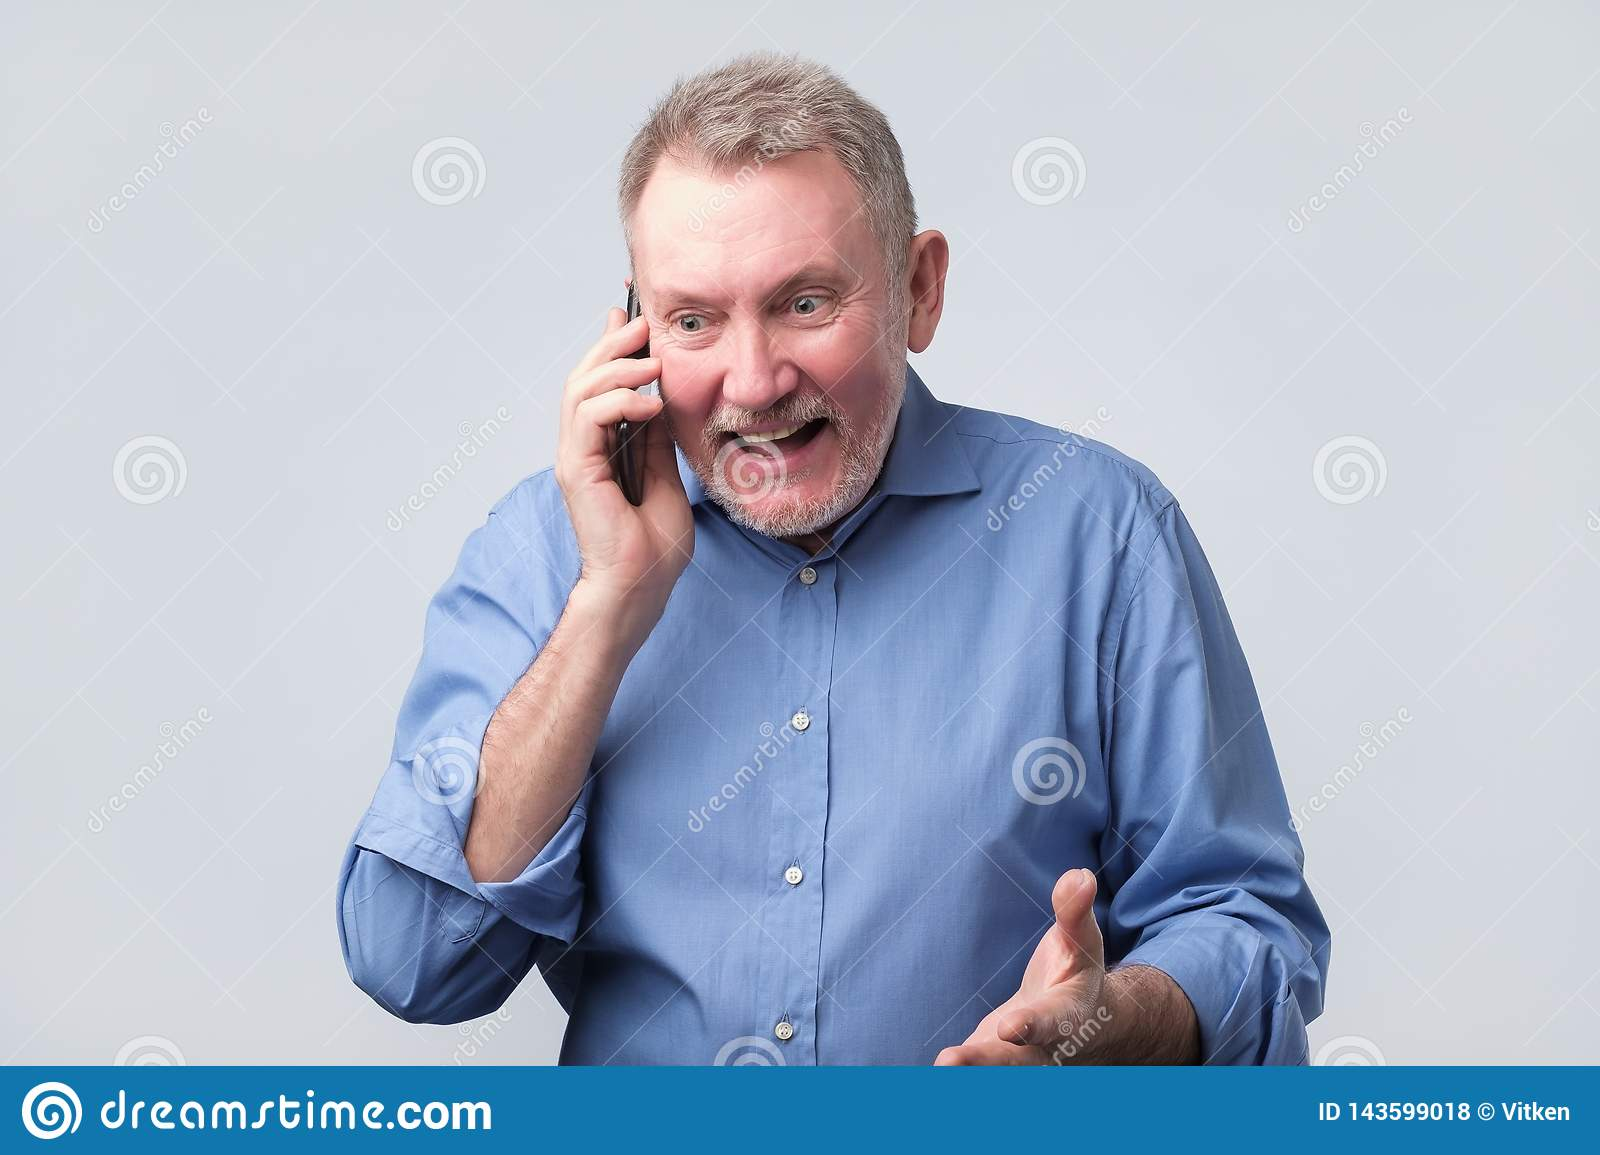phone: (602, 274, 658, 519)
talk: (552, 238, 884, 618)
